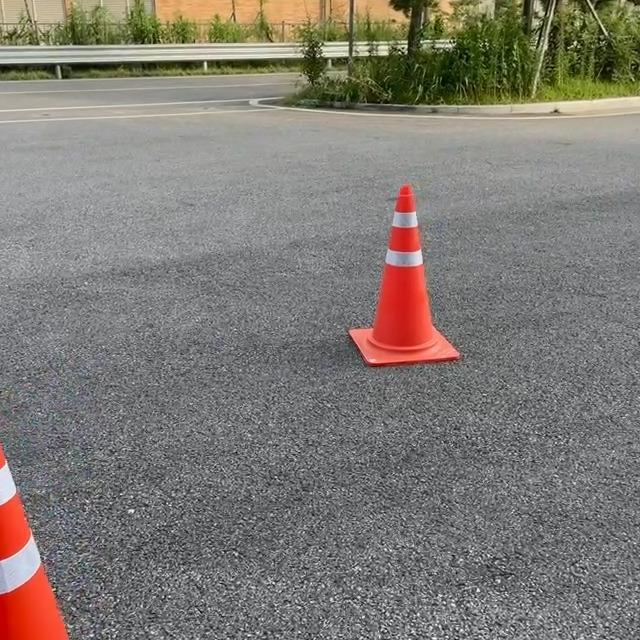fallen_object: (313, 139, 480, 355), (0, 403, 74, 640)
